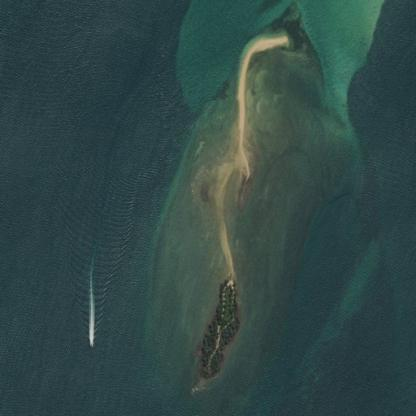ship: (88, 342, 92, 347)
